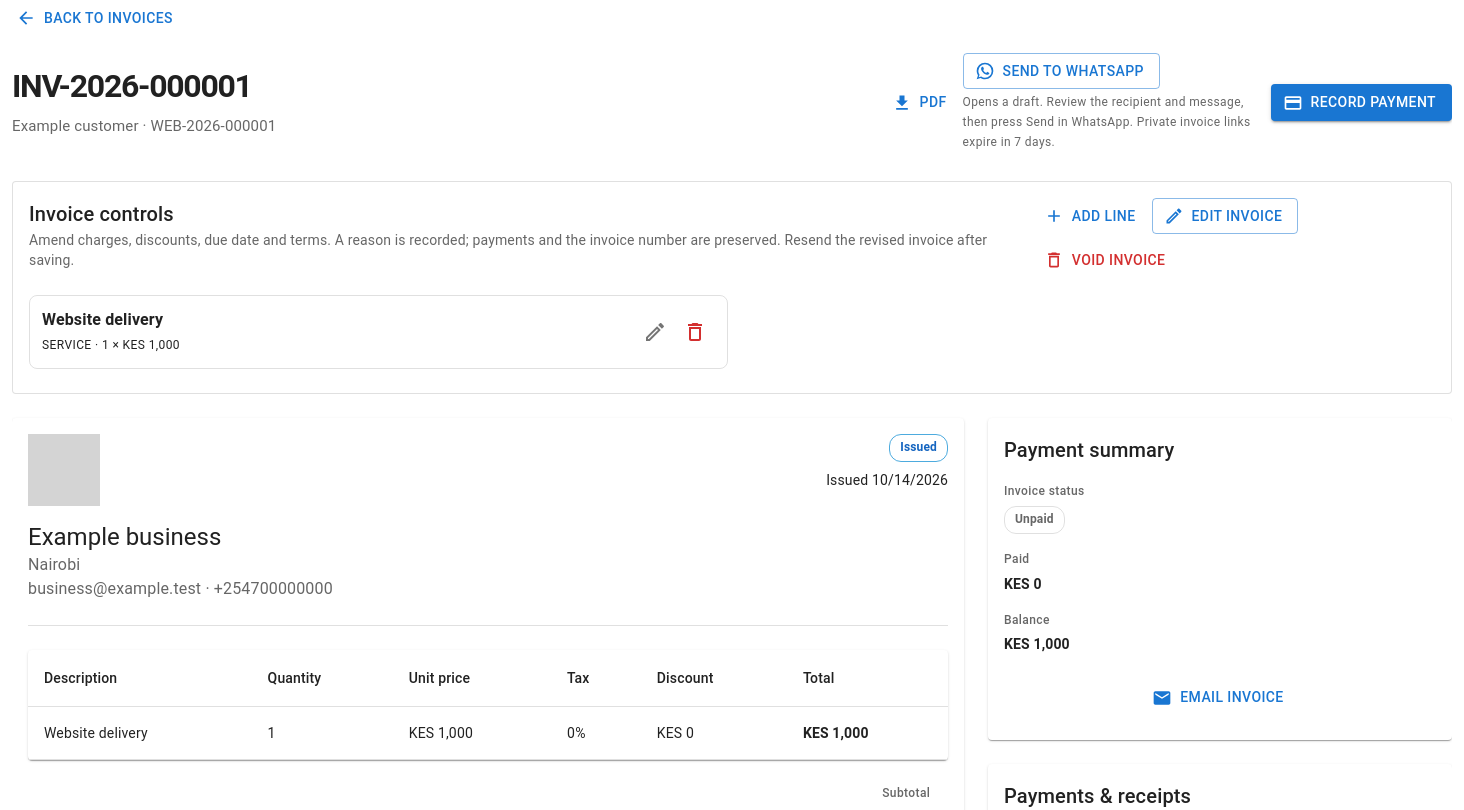
Test: one-click private invoice sharing › shows safe failure feedback and closes the reserved tab without claiming delivery
Click the button "Send to WhatsApp".
click(1061, 71)  # box [963,52,1160,89]
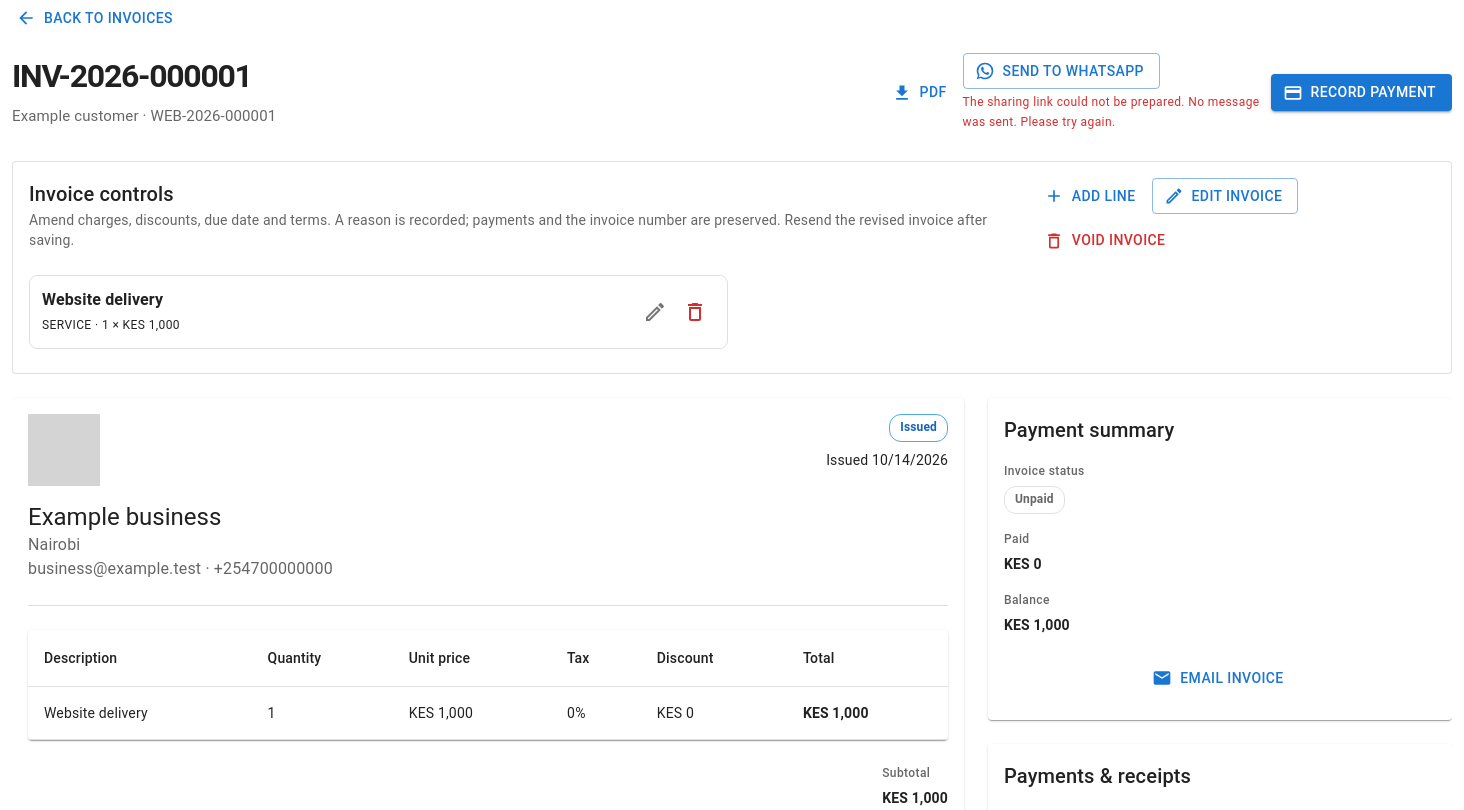
Expected: the text "The sharing link could not be prepared. No message was sent. Please try again." is shown, [963,93,1263,133]
